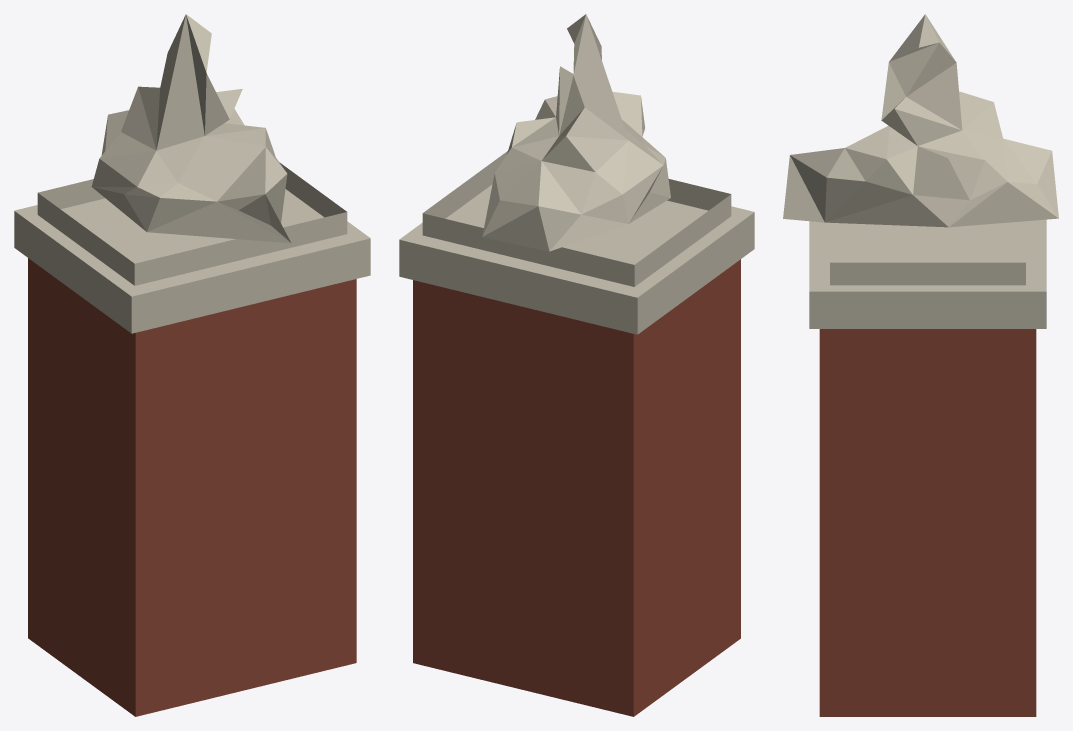
Rendered from kinderbrug-meisje-eekhoorns.lod2.glb.
The picture shows the model from 3 angles, left to right: view 1: azimuth 30°, elevation 25°; view 2: azimuth 150°, elevation 25°; view 3: azimuth 270°, elevation 25°; orthographic projection.
Parts seen in each view (by area): view 1: lod2; view 2: lod2; view 3: lod2.
Boxes of the visible parts, x1,y1,x2,y2 form: lod2: (14, 14, 370, 716); lod2: (399, 14, 754, 716); lod2: (783, 14, 1058, 716).
Size of the model in its own units: 1.35 by 3.45 by 1.34.
